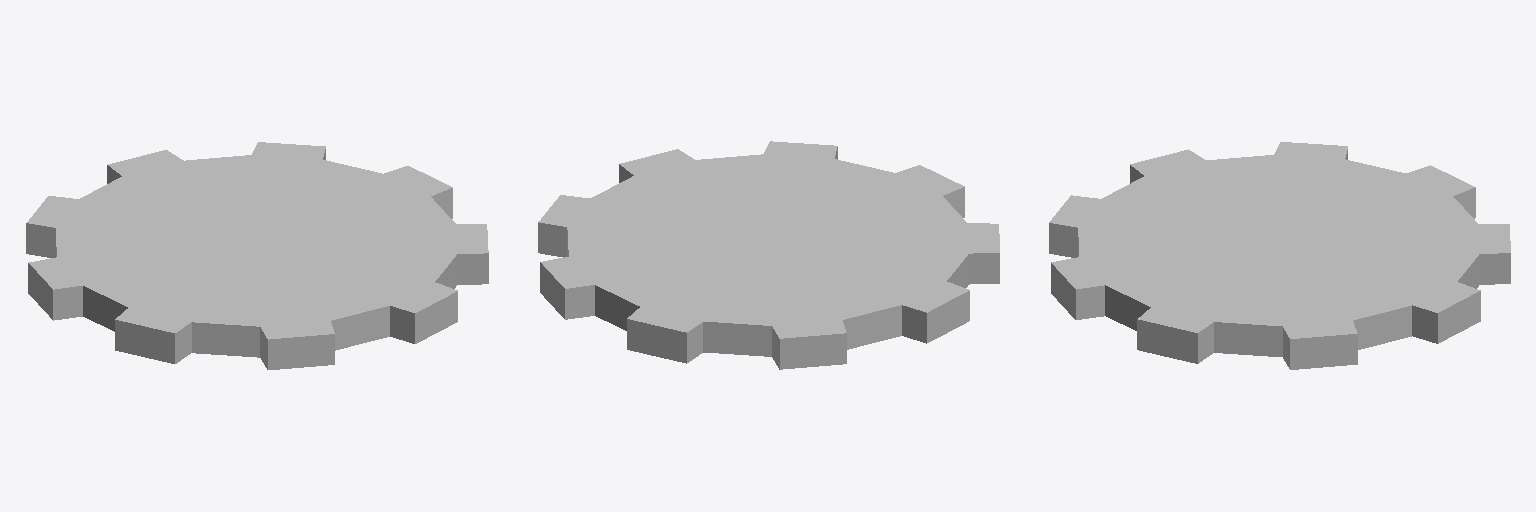
File: StarDustRedBlueExGearStepA.obj
The picture shows the model from 3 angles: view 1: azimuth 30°, elevation 25°; view 2: azimuth 150°, elevation 25°; view 3: azimuth 270°, elevation 25°; orthographic projection.
Parts seen in each view (by area): view 1: Collision_meshId0_name.005; view 2: Collision_meshId0_name.005; view 3: Collision_meshId0_name.005.
Boxes of the visible parts, box(x1,y1,x2,y2) form: Collision_meshId0_name.005: box(26, 142, 488, 369); Collision_meshId0_name.005: box(538, 141, 999, 369); Collision_meshId0_name.005: box(1049, 142, 1510, 369).
Size of the model in its own units: 913 by 66.66 by 903.